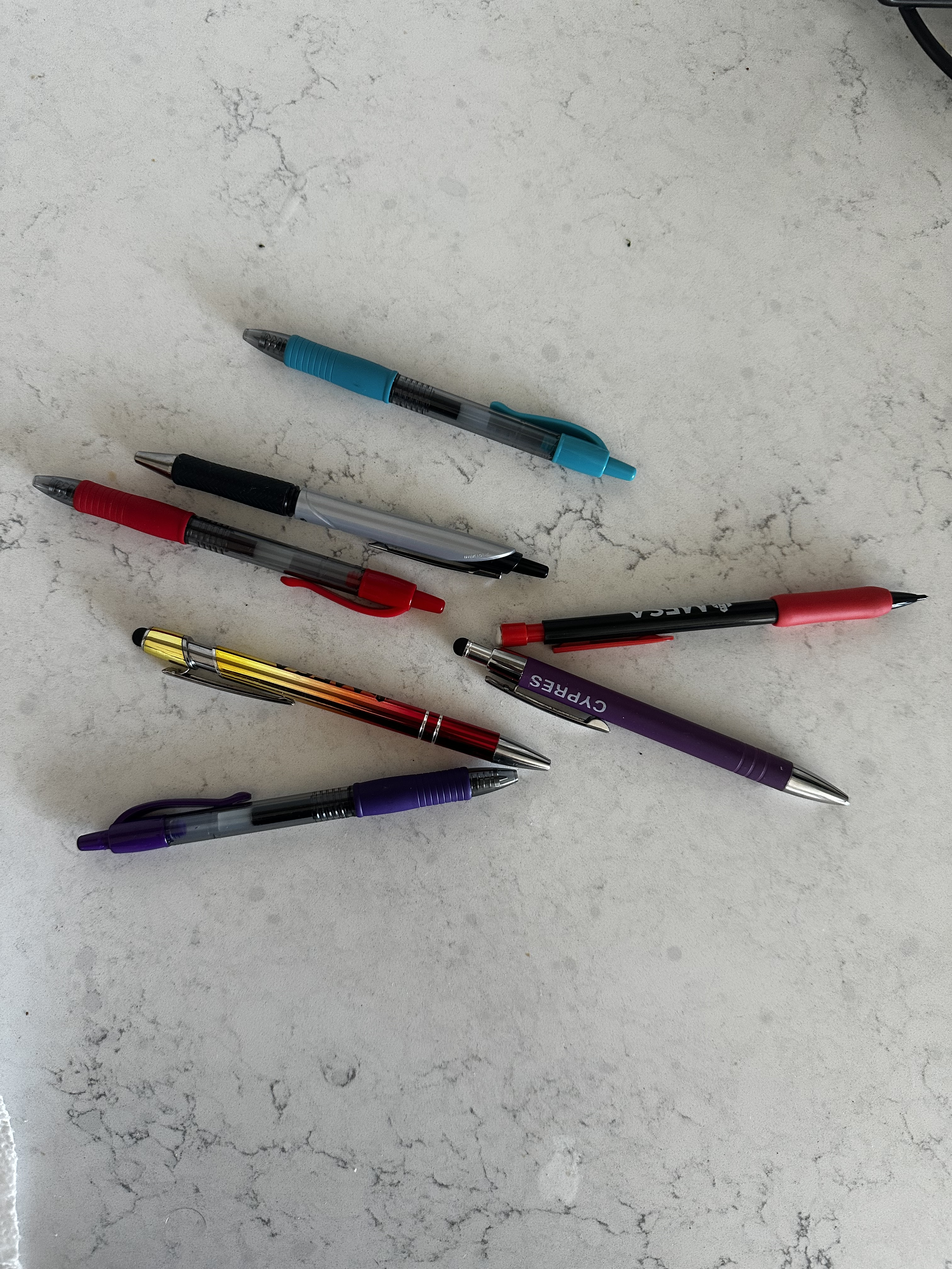Blue Pen: (241, 309, 644, 491)
Cypres Pen Purple: (454, 633, 851, 805)
MESA Multicolored pen: (122, 628, 552, 783)
Purple Pen: (76, 755, 514, 851)
Red Mechanical Pencil: (484, 580, 917, 653)
Red Pen: (28, 471, 443, 628)
Silver Pen: (137, 451, 550, 583)
